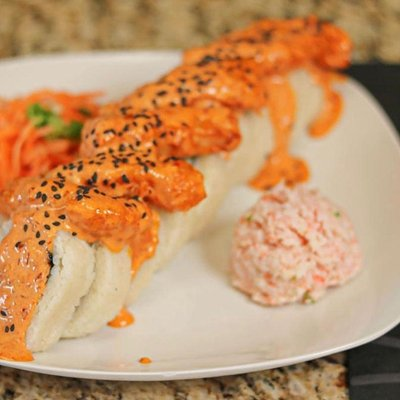salad: (227, 183, 365, 307)
